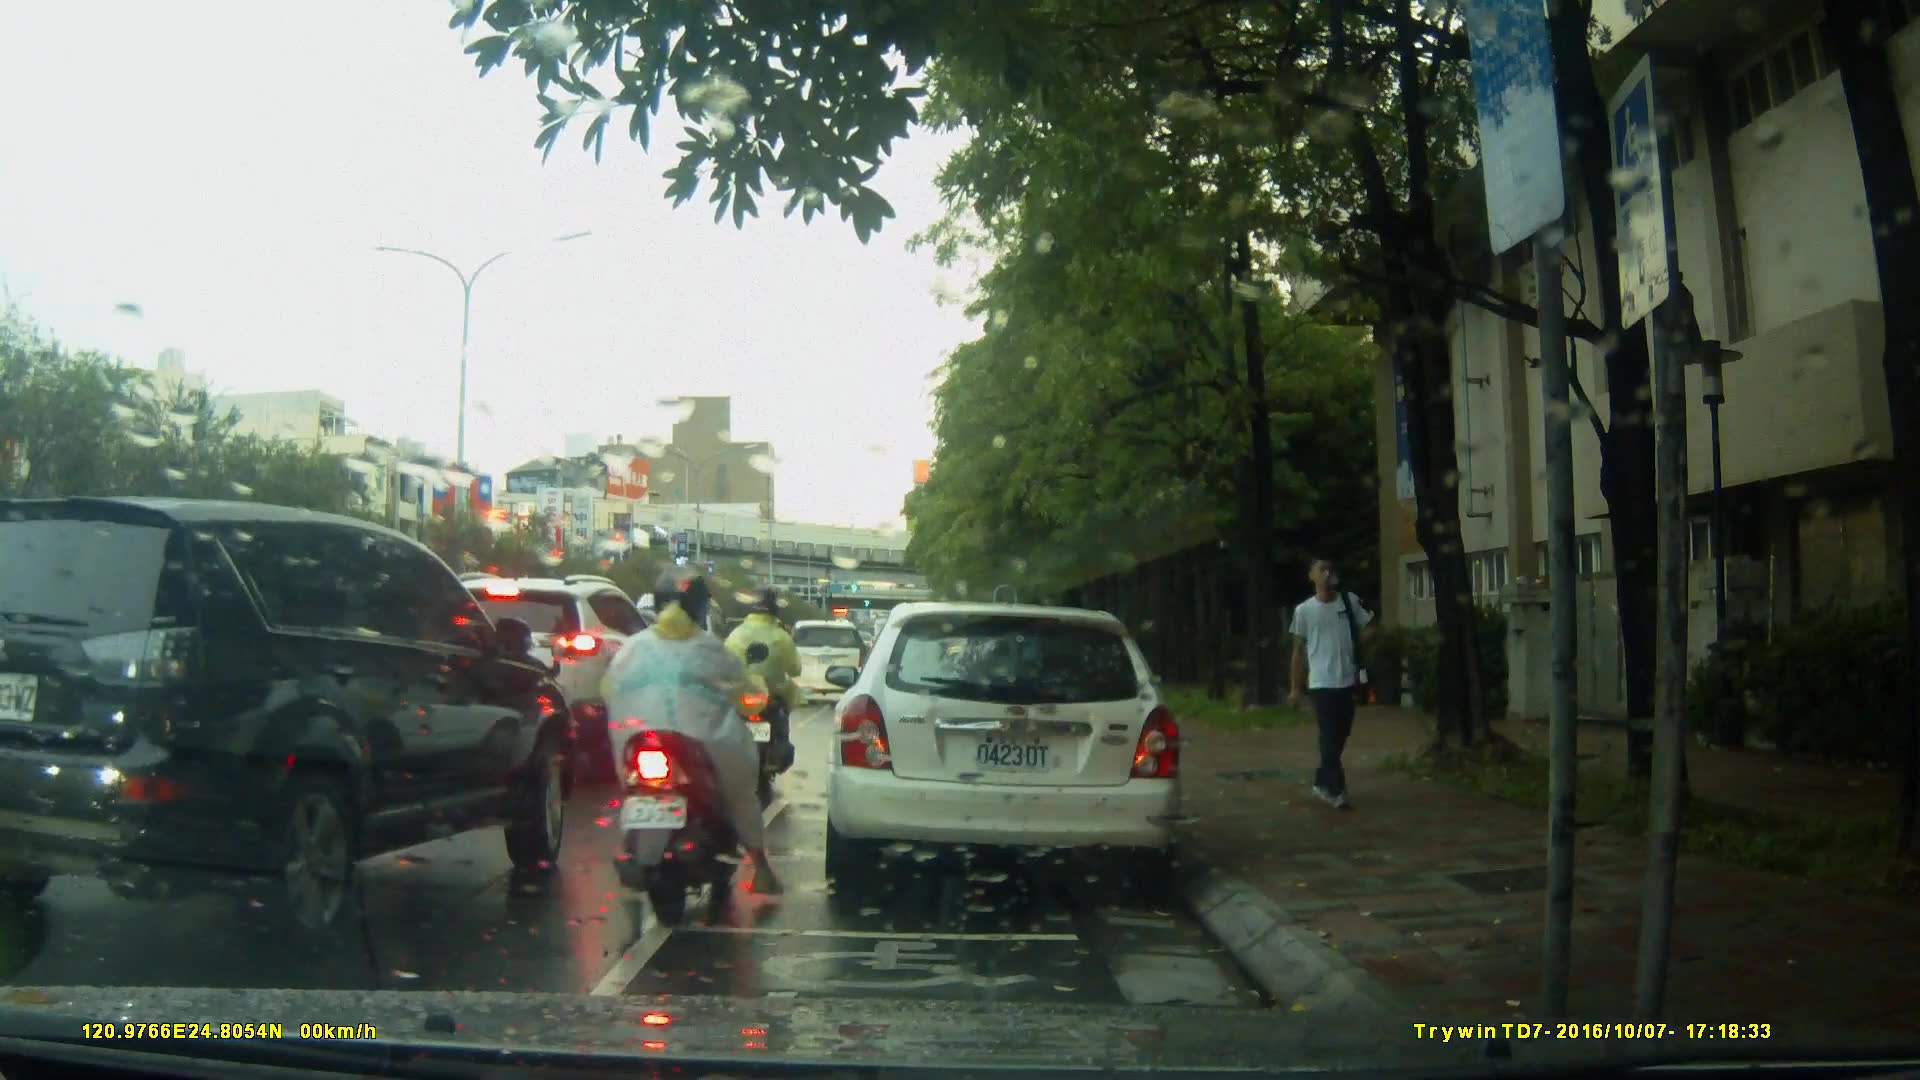pedestrian: (1267, 549, 1376, 820)
rider: (605, 568, 775, 932), (724, 588, 810, 789)
vehicle: (1, 495, 594, 944), (820, 602, 1188, 898), (389, 570, 685, 774), (626, 590, 741, 712), (771, 617, 875, 708)
